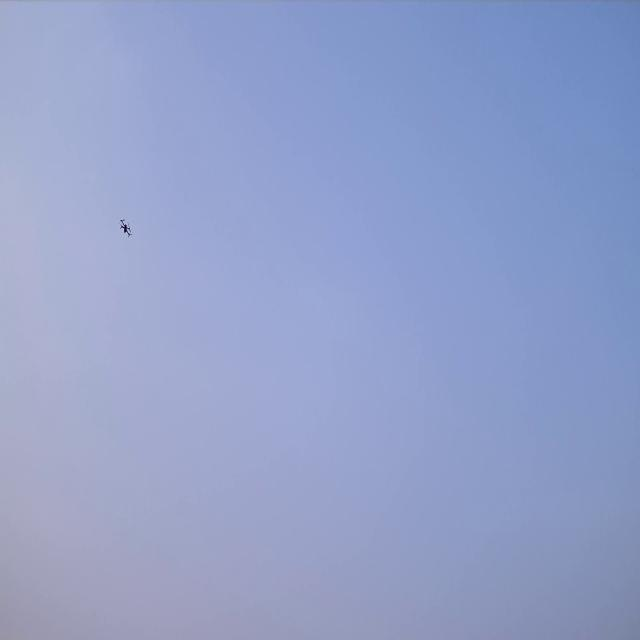UAV: (118, 217, 133, 239)
